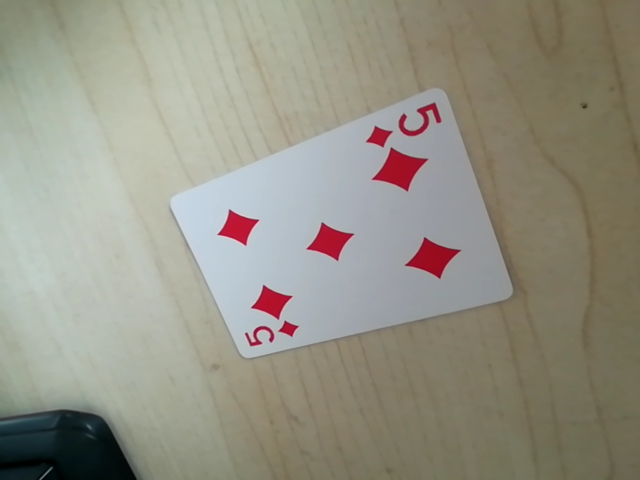fk 5: (363, 100, 448, 147), (242, 318, 305, 353)
